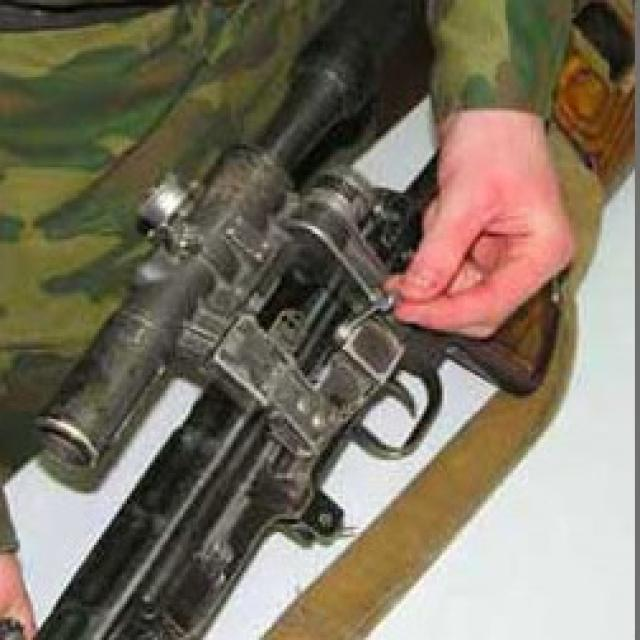firearm: (28, 0, 637, 640)
